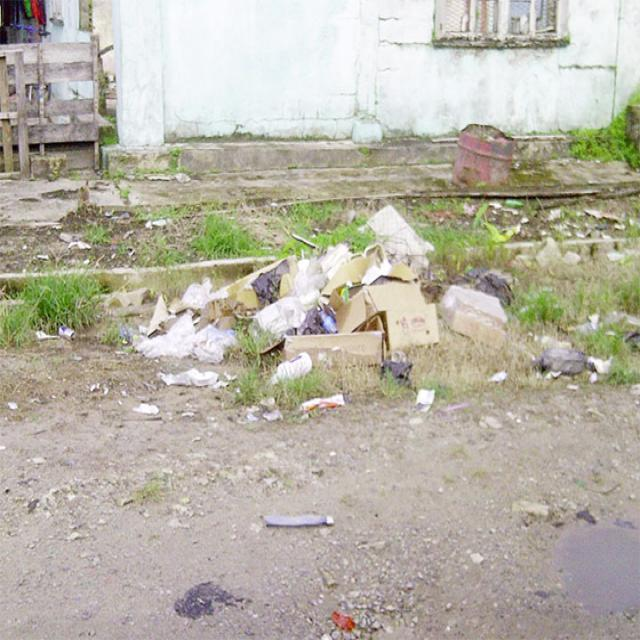plastic: (100, 231, 625, 412)
